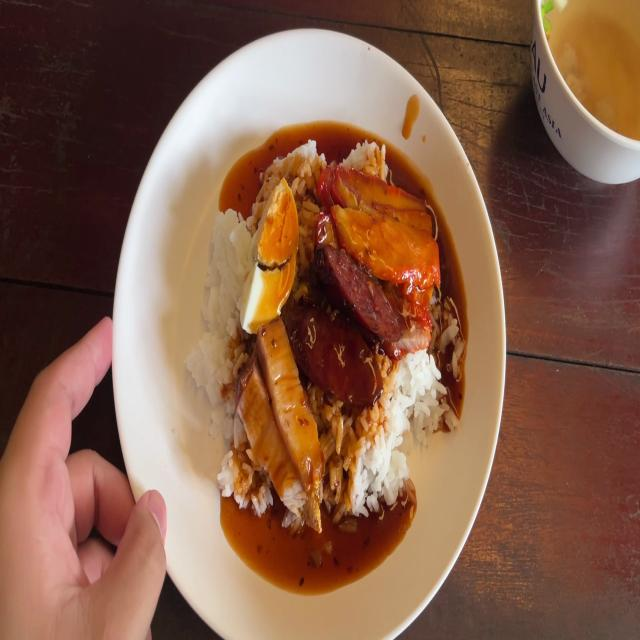red_pork_and_crispy_pork: (241, 174, 294, 336)
stir_fried_basil: (300, 251, 393, 396)
